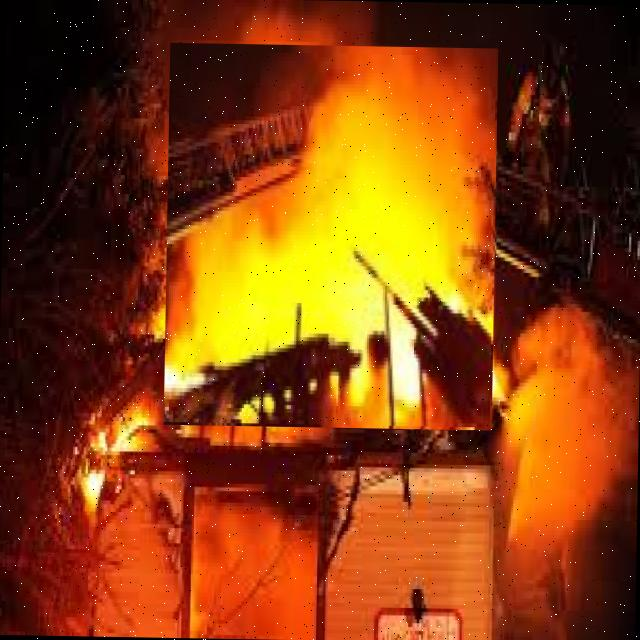fire: (163, 42, 498, 430)
